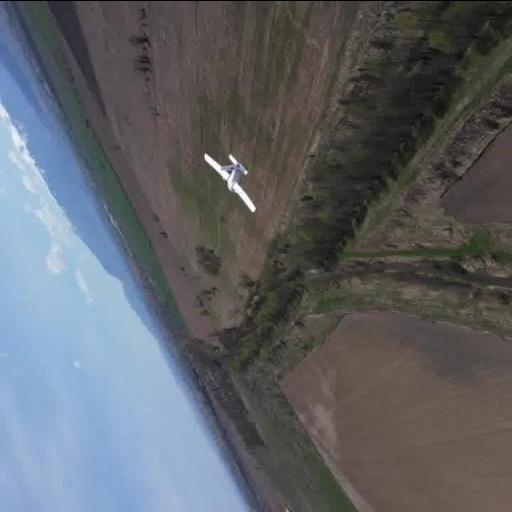uav: (197, 150, 268, 216)
